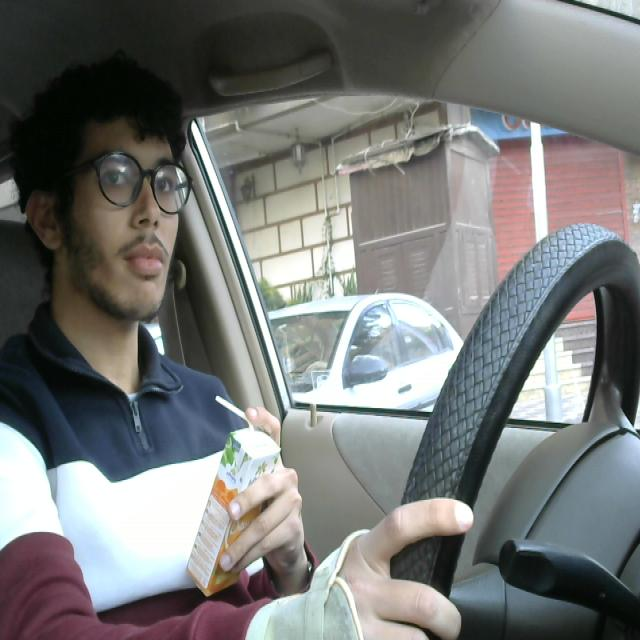drinking: (185, 376, 298, 610)
